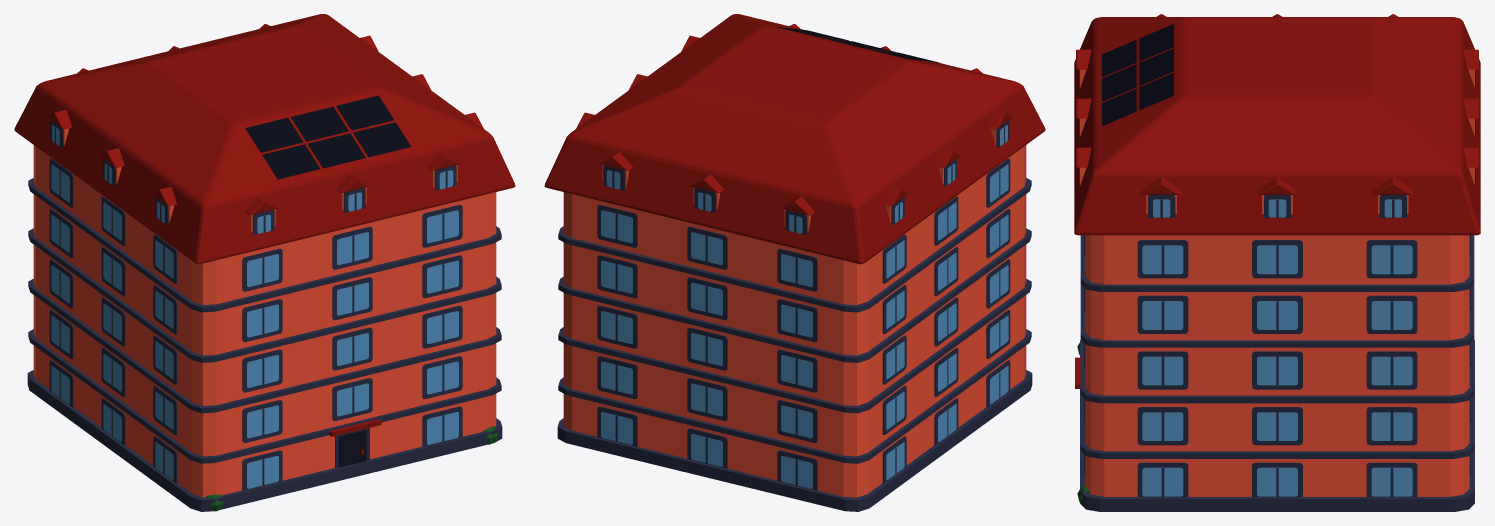
The model's file is house-2x2-5f-mansard-c-solar.glb.
3 views of the same model, side by side, from view 1: azimuth 30°, elevation 25°; view 2: azimuth 150°, elevation 25°; view 3: azimuth 270°, elevation 25° (orthographic). The views are drawn at different scales.
Parts seen in each view (by area): view 1: house-2x2-5f-mansard-c-solar; view 2: house-2x2-5f-mansard-c-solar; view 3: house-2x2-5f-mansard-c-solar.
Part boxes in pixels (x1,y1,x2,y2): house-2x2-5f-mansard-c-solar: [14, 14, 515, 511]; house-2x2-5f-mansard-c-solar: [544, 14, 1045, 511]; house-2x2-5f-mansard-c-solar: [1074, 14, 1480, 511].
Bounding box in the file's own units: 1.99 × 2.01 × 1.99.
1 material, 1 textured.
